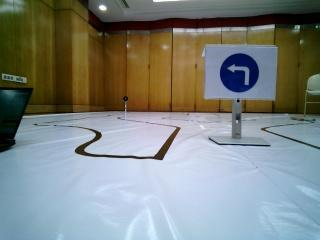left: (208, 47, 276, 101)
